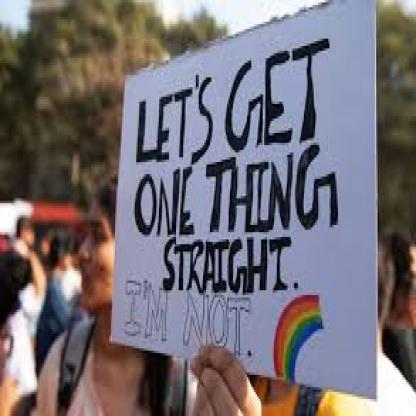BANNER: (109, 0, 378, 401)
